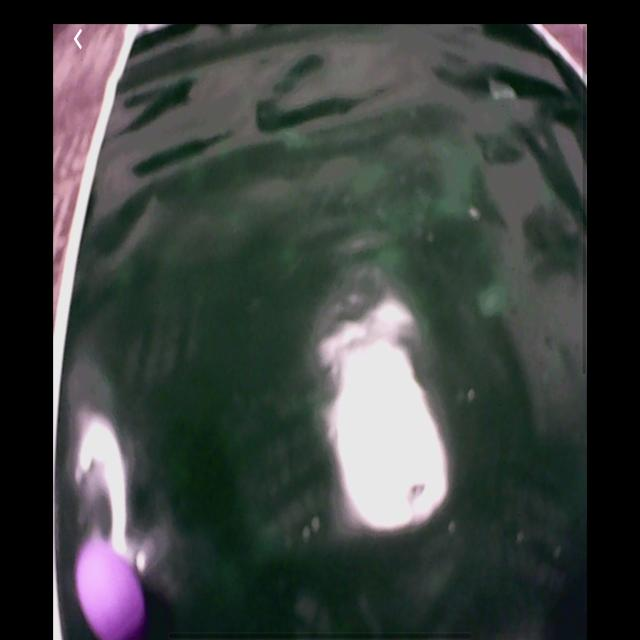ball: (74, 534, 148, 639)
